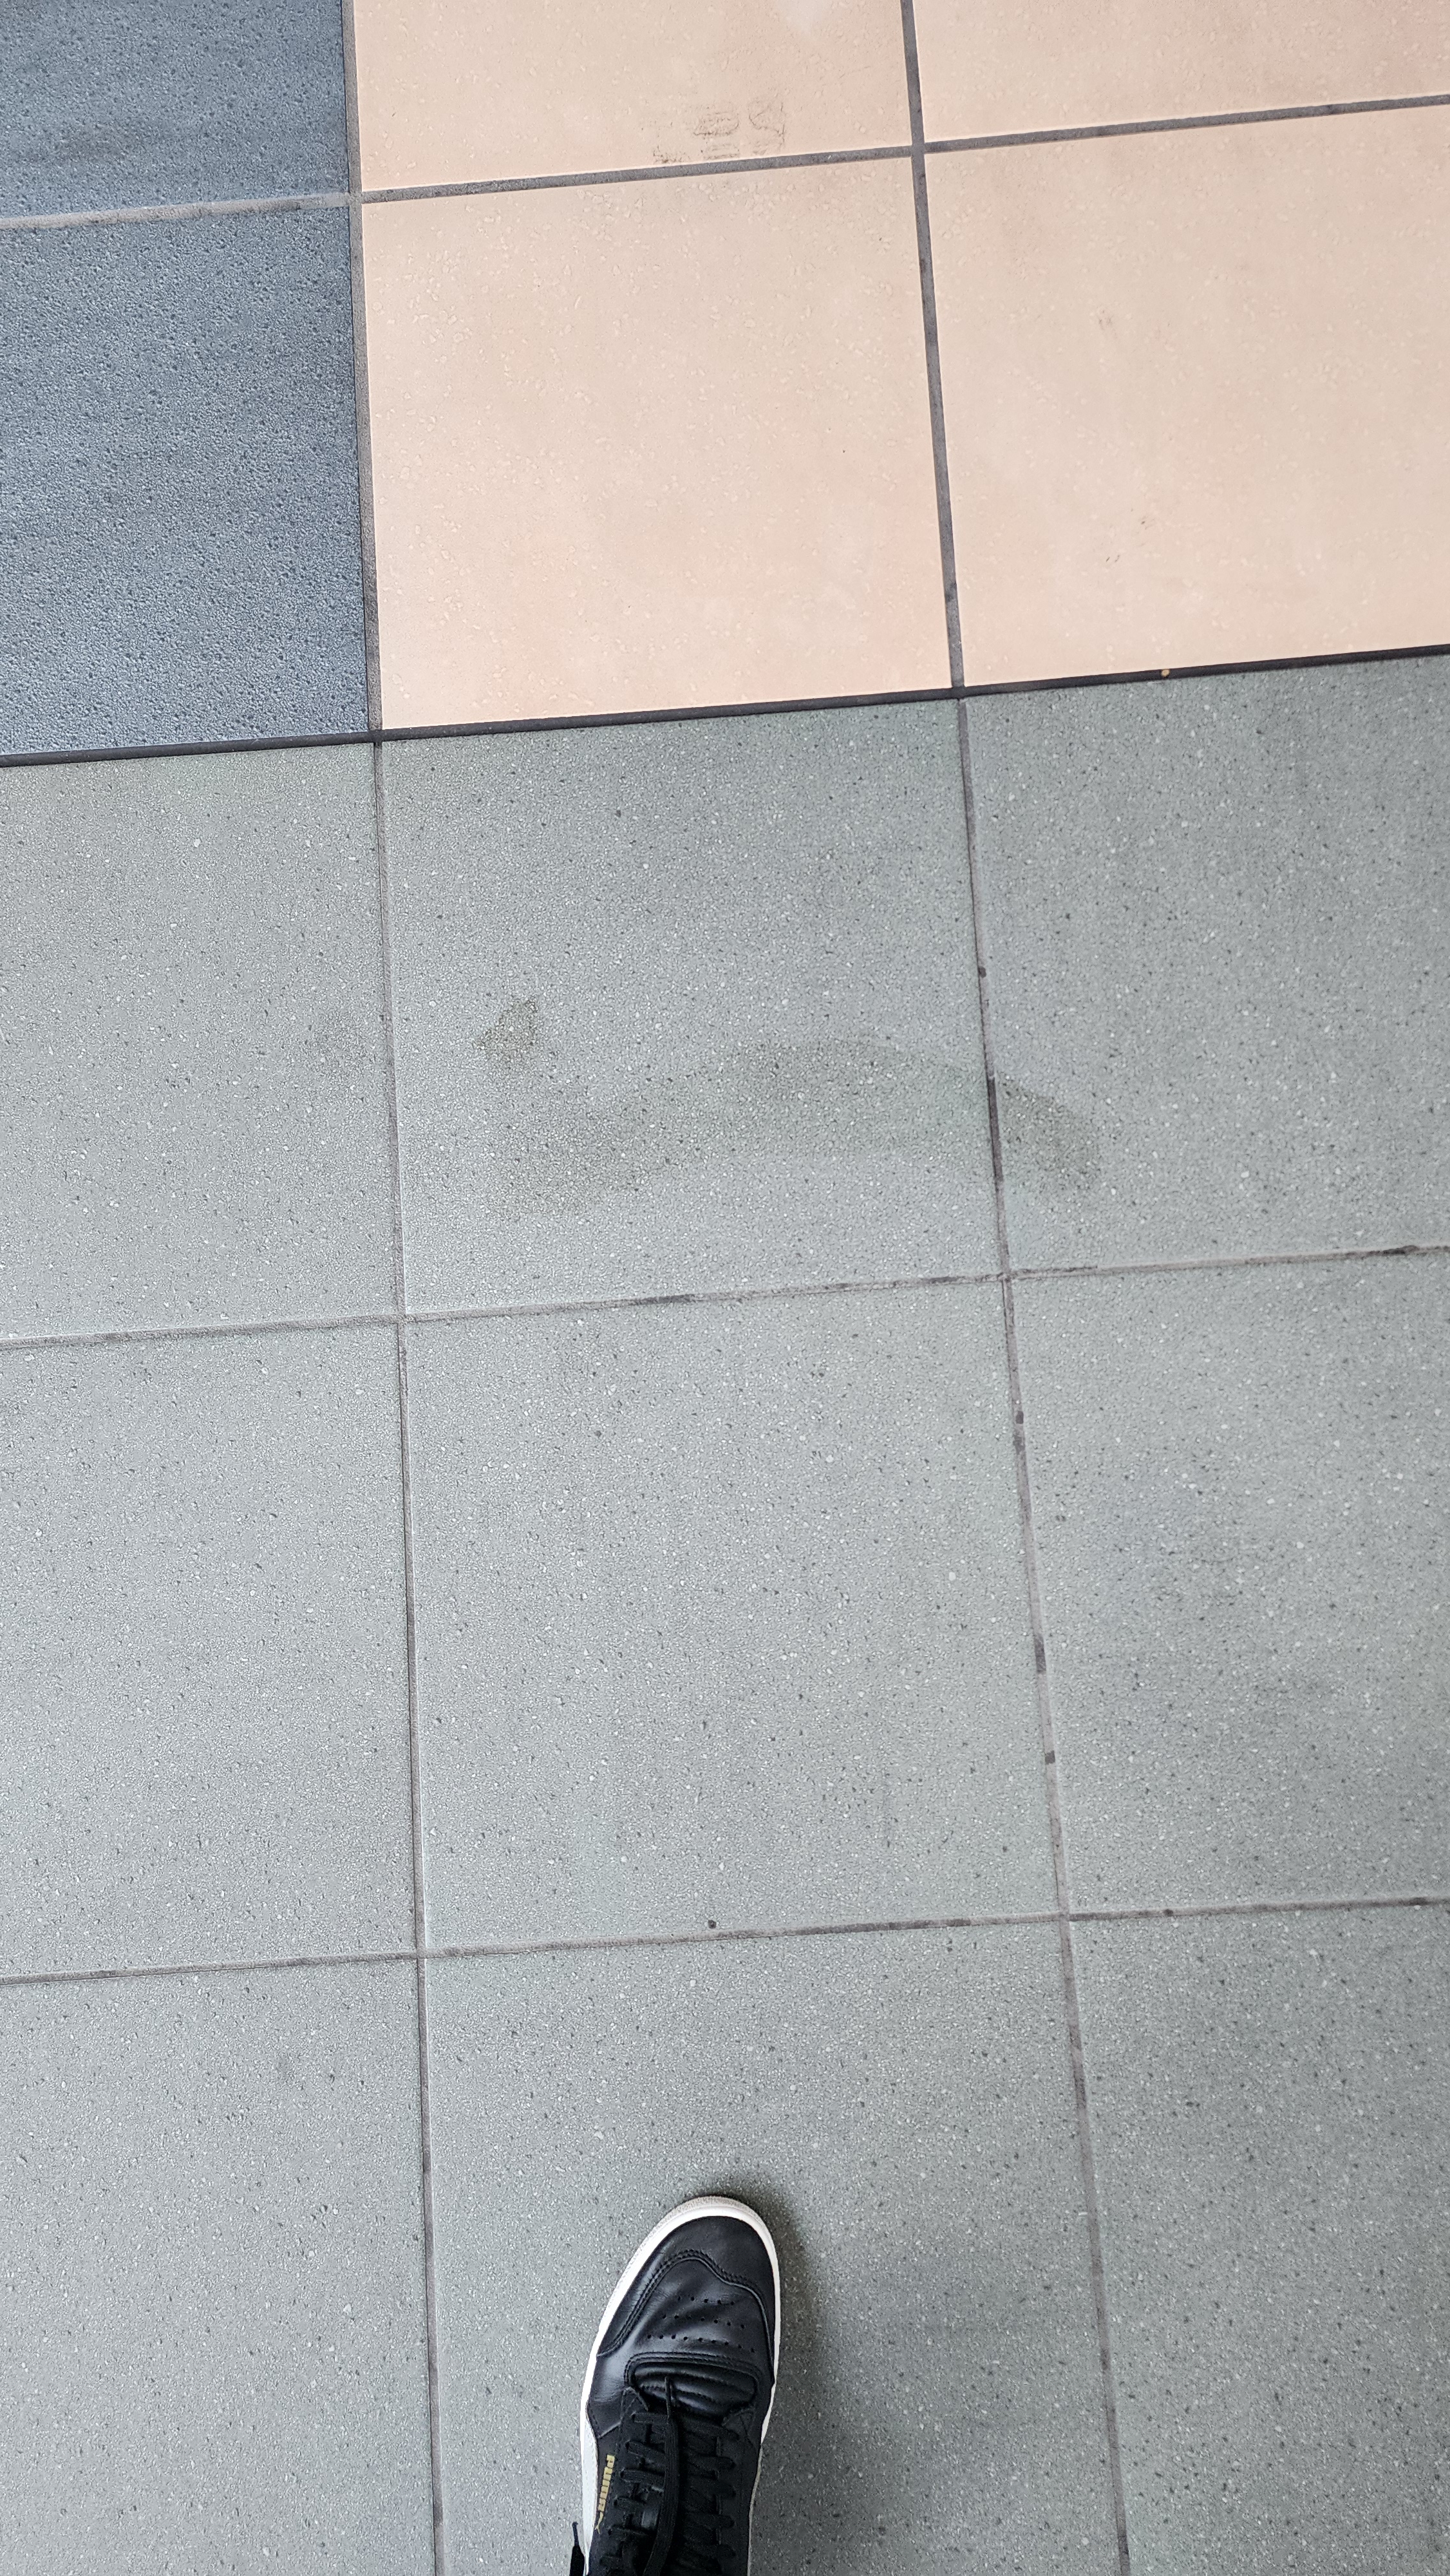Stain: (481, 987, 1128, 1235)
